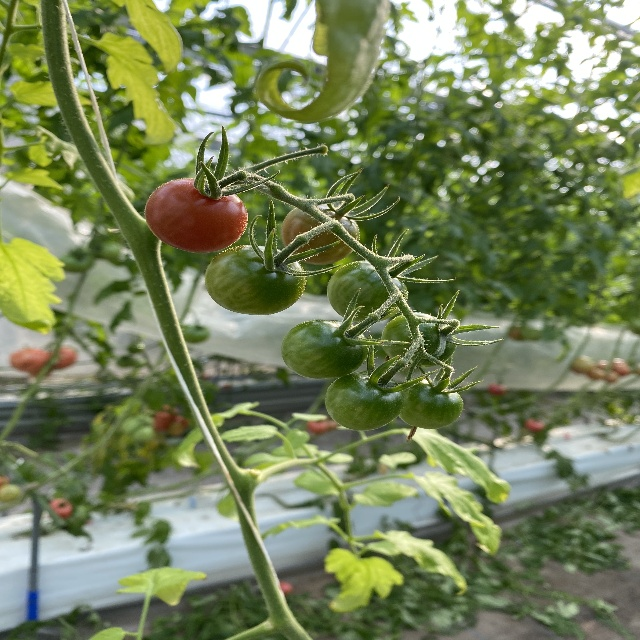l_fully_ripened: (144, 177, 250, 253)
l_green: (203, 245, 306, 315), (281, 319, 370, 379), (327, 261, 409, 323), (325, 370, 406, 431), (381, 312, 457, 368), (399, 379, 464, 429)
l_half_ripened: (283, 203, 360, 265)
